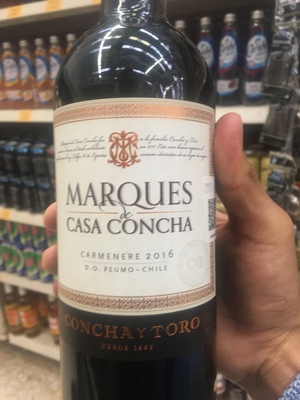marques de casa concha carmenere: (41, 13, 233, 397)
